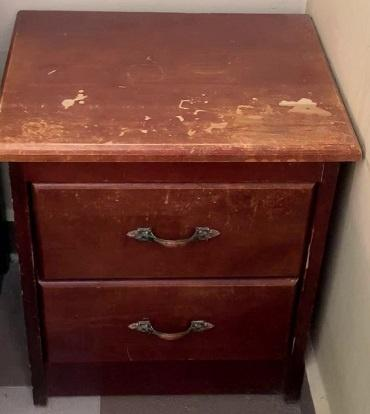cabinet_door: (29, 181, 310, 277), (38, 281, 295, 362)
handle: (125, 221, 223, 253), (125, 312, 217, 344)
